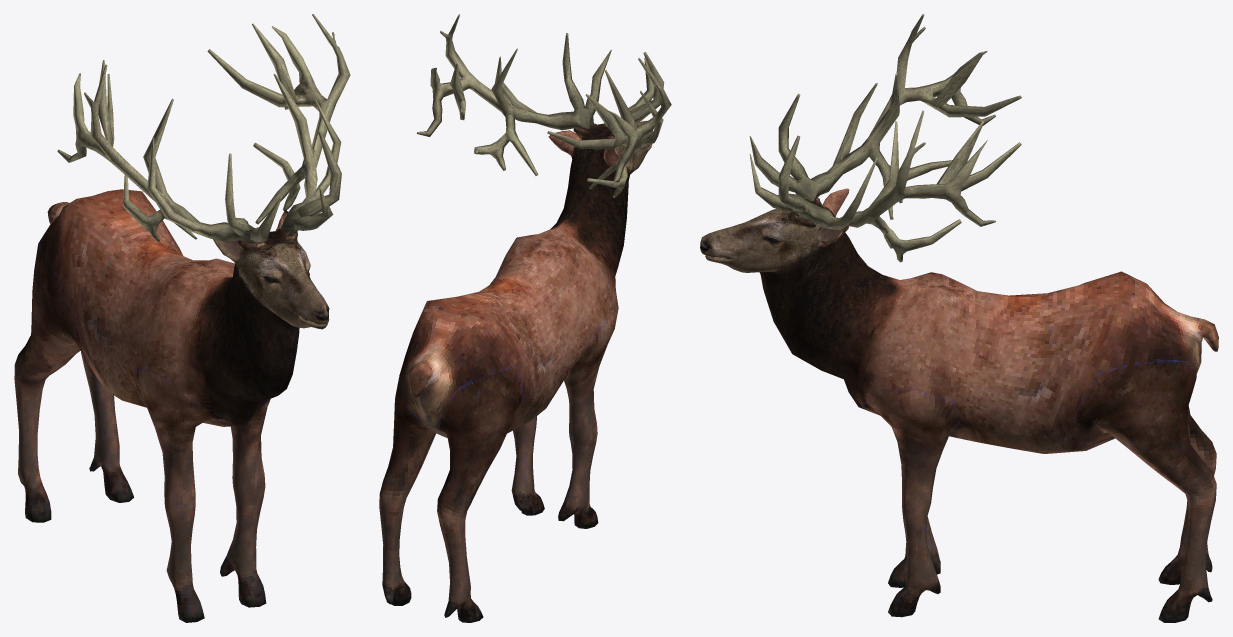
Rendered from woodland-stag-quiet.glb.
3 views of the same model, side by side, from view 1: azimuth 30°, elevation 25°; view 2: azimuth 150°, elevation 25°; view 3: azimuth 270°, elevation 25° (orthographic). The views are drawn at different scales.
Visible parts, largest first — view 1: woodland-stag-quiet runtime mesh; view 2: woodland-stag-quiet runtime mesh; view 3: woodland-stag-quiet runtime mesh.
Part boxes in pixels (x1,y1,x2,y2): woodland-stag-quiet runtime mesh: [14, 14, 350, 622]; woodland-stag-quiet runtime mesh: [379, 14, 671, 622]; woodland-stag-quiet runtime mesh: [700, 14, 1218, 622].
Bounding box in the file's own units: 0.9247 × 1.95 × 1.71.
4 materials, 3 textured.
